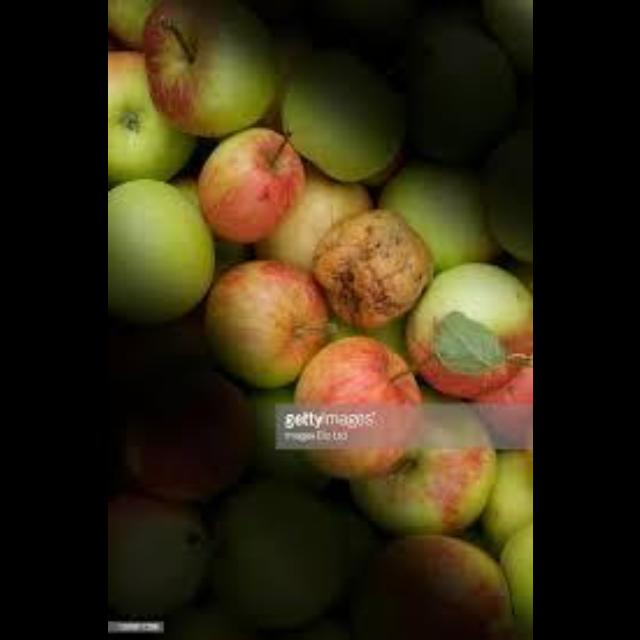apple: (209, 479, 347, 628), (142, 0, 275, 135), (123, 361, 251, 500), (293, 337, 419, 477), (405, 263, 531, 398), (349, 535, 510, 638), (279, 51, 403, 179), (202, 261, 326, 386), (405, 26, 514, 163), (107, 179, 212, 321), (312, 209, 430, 328), (107, 493, 209, 619), (379, 163, 496, 270), (349, 447, 493, 533), (198, 128, 302, 242), (107, 51, 193, 184), (482, 128, 531, 261), (482, 451, 531, 554), (449, 326, 477, 363)
rotten: (312, 209, 430, 326)
